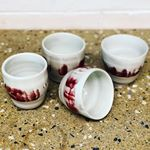cups: (57, 63, 117, 123), (1, 51, 51, 111), (99, 31, 150, 86), (40, 31, 89, 86)
